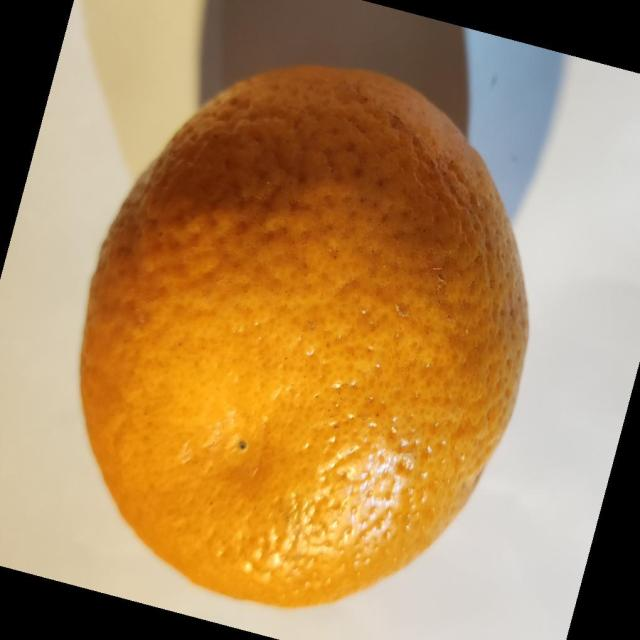fresh orange: (78, 62, 530, 608)
